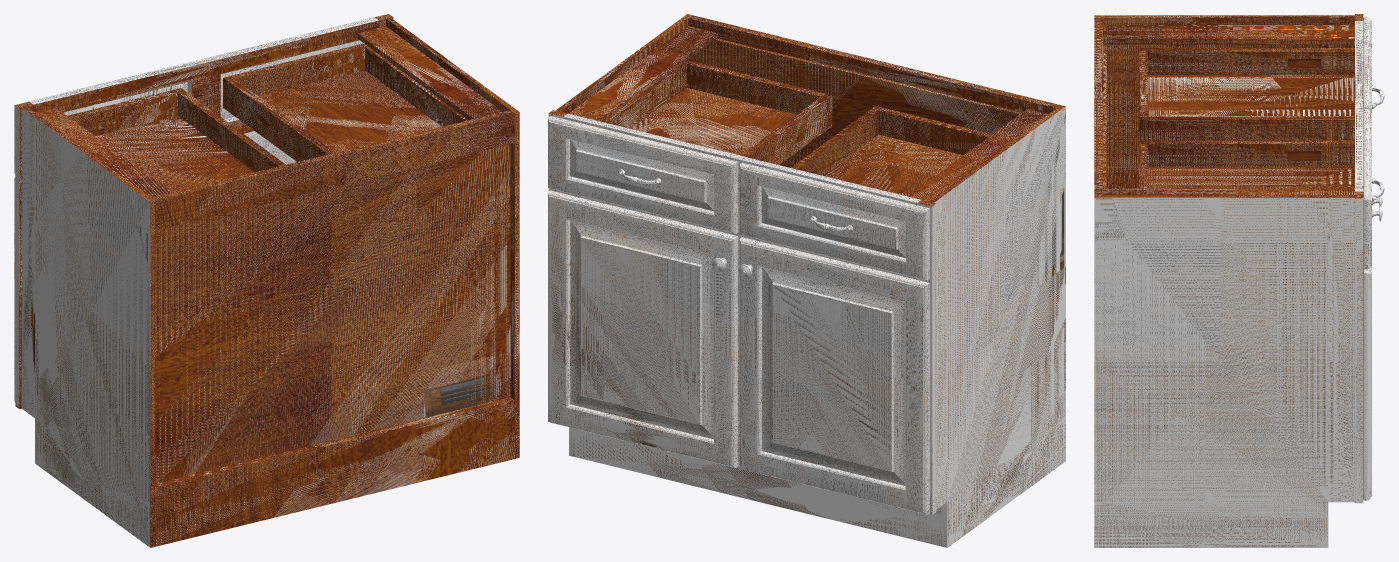
3 views of the same model, side by side, from view 1: azimuth 30°, elevation 25°; view 2: azimuth 150°, elevation 25°; view 3: azimuth 270°, elevation 25° (orthographic). The views are drawn at different scales.
Visible parts, largest first — view 1: mesh5_mesh5-geometry, mesh8_mesh8-geometry, mesh14_mesh14-geometry, mesh22_mesh22-geometry, mesh4_mesh4-geometry, mesh19_mesh19-geometry, mesh6_mesh6-geometry, mesh20_mesh20-geometry, mesh9_mesh9-geometry, mesh7_mesh7-geometry, mesh11_mesh11-geometry, mesh16_mesh16-geometry (+5 smaller); view 2: mesh8_mesh8-geometry, mesh57_mesh57-geometry, mesh46_mesh46-geometry, mesh22_mesh22-geometry, mesh15_mesh15-geometry, mesh5_mesh5-geometry, mesh28_mesh28-geometry, mesh19_mesh19-geometry, mesh29_mesh29-geometry, mesh44_mesh44-geometry, mesh20_mesh20-geometry, mesh55_mesh55-geometry (+29 smaller); view 3: mesh11_mesh11-geometry, mesh19_mesh19-geometry, mesh22_mesh22-geometry, mesh12_mesh12-geometry, mesh10_mesh10-geometry, mesh8_mesh8-geometry, mesh17_mesh17-geometry, mesh3_mesh3-geometry, mesh16_mesh16-geometry, mesh4_mesh4-geometry, mesh6_mesh6-geometry, mesh43_mesh43-geometry (+7 smaller).
Part boxes in pixels (left/top/right/bottom): mesh5_mesh5-geometry: left=155, top=144, right=510, bottom=483; mesh8_mesh8-geometry: left=35, top=116, right=155, bottom=502; mesh14_mesh14-geometry: left=155, top=397, right=514, bottom=546; mesh22_mesh22-geometry: left=95, top=70, right=441, bottom=192; mesh4_mesh4-geometry: left=151, top=110, right=514, bottom=230; mesh19_mesh19-geometry: left=174, top=43, right=468, bottom=172; mesh6_mesh6-geometry: left=30, top=17, right=378, bottom=133; mesh20_mesh20-geometry: left=67, top=44, right=364, bottom=135; mesh9_mesh9-geometry: left=35, top=418, right=155, bottom=547; mesh7_mesh7-geometry: left=21, top=106, right=39, bottom=417; mesh11_mesh11-geometry: left=399, top=27, right=519, bottom=413; mesh16_mesh16-geometry: left=357, top=26, right=502, bottom=119; mesh8_mesh8-geometry: left=943, top=105, right=1065, bottom=501; mesh57_mesh57-geometry: left=773, top=286, right=890, bottom=469; mesh46_mesh46-geometry: left=582, top=239, right=698, bottom=422; mesh22_mesh22-geometry: left=631, top=88, right=963, bottom=196; mesh15_mesh15-geometry: left=574, top=428, right=942, bottom=546; mesh5_mesh5-geometry: left=688, top=38, right=1021, bottom=167; mesh28_mesh28-geometry: left=578, top=123, right=897, bottom=229; mesh19_mesh19-geometry: left=603, top=60, right=882, bottom=175; mesh29_mesh29-geometry: left=578, top=170, right=896, bottom=272; mesh44_mesh44-geometry: left=698, top=267, right=738, bottom=431; mesh20_mesh20-geometry: left=687, top=61, right=991, bottom=155; mesh55_mesh55-geometry: left=890, top=314, right=929, bottom=477; mesh11_mesh11-geometry: left=1094, top=195, right=1328, bottom=502; mesh19_mesh19-geometry: left=1139, top=48, right=1354, bottom=167; mesh22_mesh22-geometry: left=1147, top=75, right=1354, bottom=188; mesh12_mesh12-geometry: left=1094, top=502, right=1328, bottom=547; mesh10_mesh10-geometry: left=1328, top=195, right=1354, bottom=502; mesh8_mesh8-geometry: left=1094, top=15, right=1328, bottom=188; mesh17_mesh17-geometry: left=1103, top=25, right=1354, bottom=44; mesh3_mesh3-geometry: left=1355, top=14, right=1363, bottom=503; mesh16_mesh16-geometry: left=1103, top=188, right=1354, bottom=195; mesh4_mesh4-geometry: left=1094, top=17, right=1102, bottom=195; mesh6_mesh6-geometry: left=1355, top=21, right=1363, bottom=191; mesh43_mesh43-geometry: left=1363, top=309, right=1371, bottom=463.
Size of the model in its own units: 0.6707 by 0.5933 by 0.4451.
